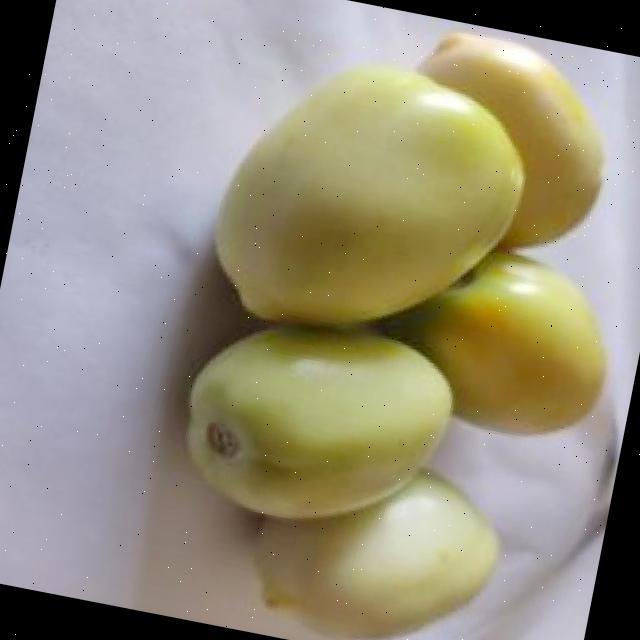tomato: (203, 37, 544, 362), (168, 298, 465, 543), (382, 23, 624, 259), (234, 439, 512, 640), (392, 231, 628, 448)
